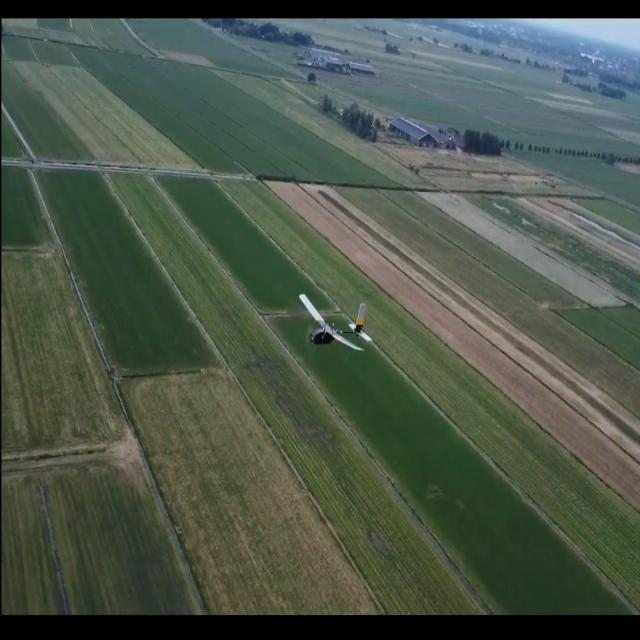iha: (331, 321, 343, 325)
